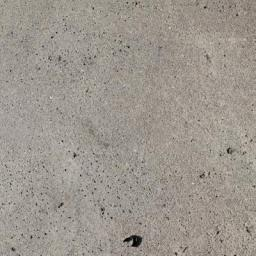FOD: (123, 232, 145, 252)
